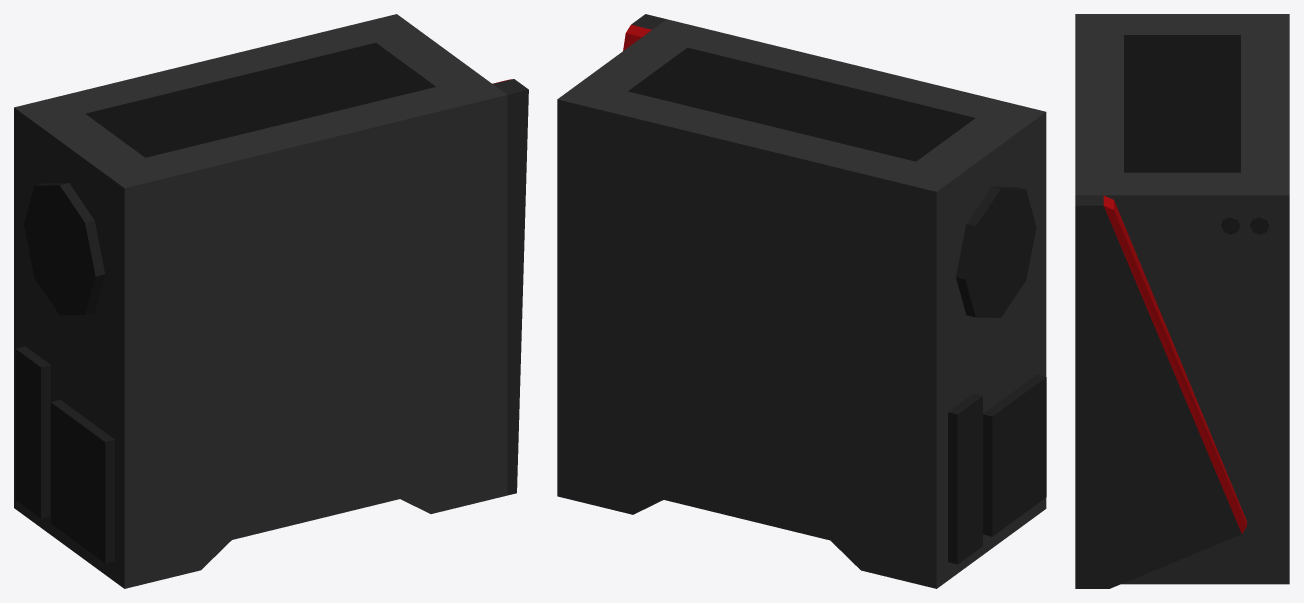
File: computer_low_poly.glb
The picture shows the model from 3 angles, left to right: view 1: azimuth 30°, elevation 25°; view 2: azimuth 150°, elevation 25°; view 3: azimuth 270°, elevation 25°; orthographic projection. The views are drawn at different scales.
Visible parts, largest first — view 1: Computer_01; view 2: Computer_01; view 3: Computer_01.
Part boxes in pixels (x1,y1,x2,y2): Computer_01: (14, 14, 528, 588); Computer_01: (557, 14, 1046, 588); Computer_01: (1075, 14, 1289, 588).
Size of the model in its own units: 0.5817 by 0.5389 by 0.2688.
1 material, 1 textured.
